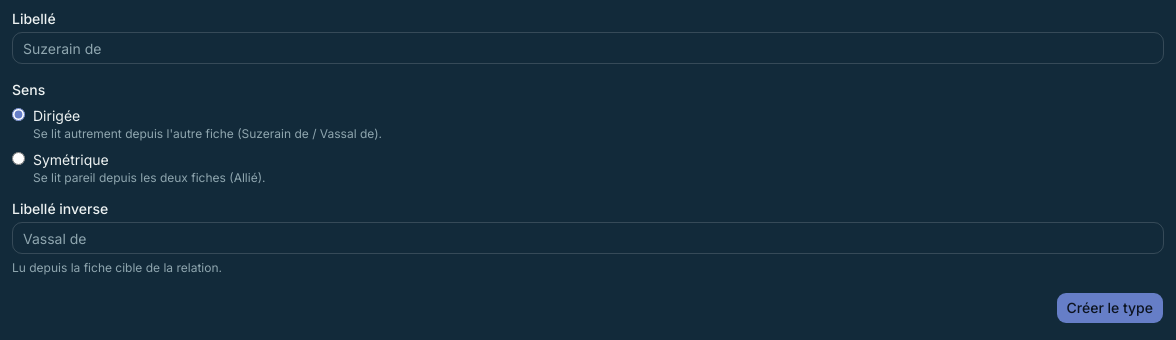
Test: CustomRelationTypeForm (KAN-84) › symetrique : le champ inverse disparait (jamais poste)
Click the radio button labelled "Symétrique Se lit pareil depuis les deux fiches (Allié)." at [18, 158], box x1=12 y1=152 x2=25 y2=165
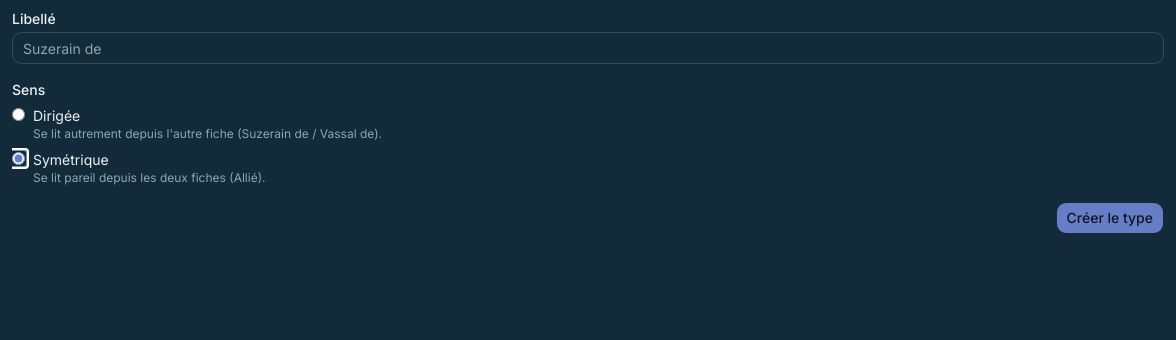
expect the label labelled "Libellé inverse" is gone: met
